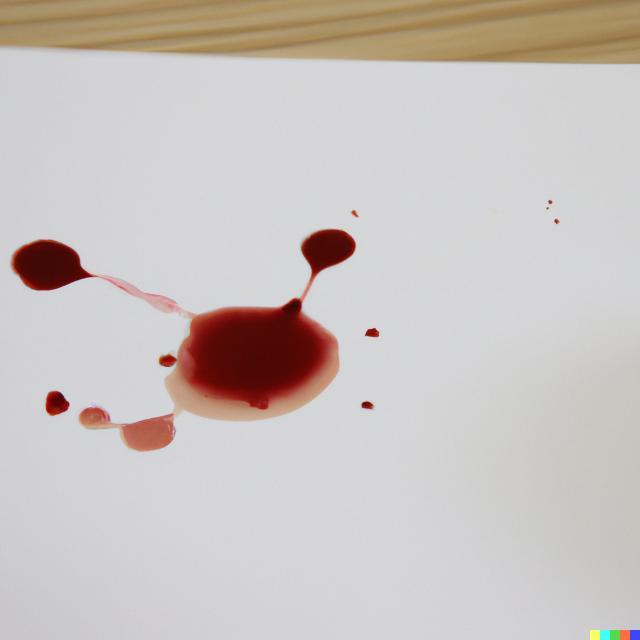blood: (10, 229, 356, 451), (46, 391, 70, 416), (365, 328, 379, 338), (361, 401, 374, 409)
